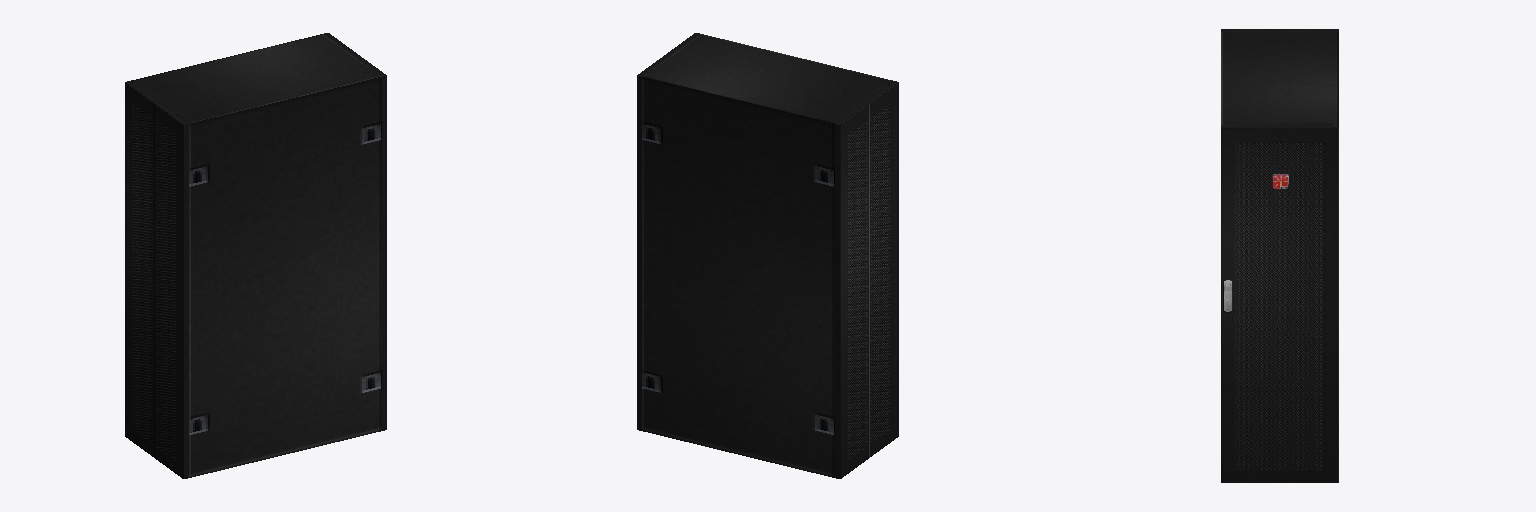
3 views of the same model, side by side, from view 1: azimuth 30°, elevation 25°; view 2: azimuth 150°, elevation 25°; view 3: azimuth 270°, elevation 25° (orthographic).
Parts seen in each view (by area): view 1: IBM����_600x1200x2000, Object001, Object002, Object003; view 2: IBM����_600x1200x2000, Object002, Object001, Object003; view 3: Object003, IBM����_600x1200x2000.
Boxes of the visible parts, <box> form: IBM����_600x1200x2000: <box>131,34,381,477</box>; Object001: <box>154,102,188,478</box>; Object002: <box>125,81,158,456</box>; Object003: <box>324,33,386,430</box>; IBM����_600x1200x2000: <box>642,34,892,477</box>; Object002: <box>835,102,869,478</box>; Object001: <box>865,81,898,456</box>; Object003: <box>637,33,699,430</box>; Object003: <box>1221,126,1338,482</box>; IBM����_600x1200x2000: <box>1221,32,1338,125</box>.
Bounding box in the file's own units: 1.2 × 2 × 0.6.
Materials: 1 (1 with a texture image).